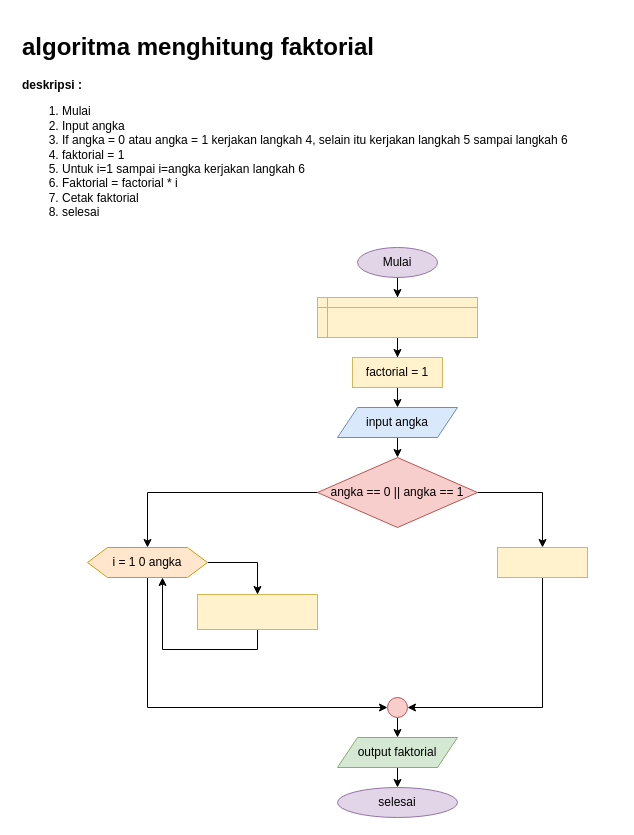
Image size: 634x835. Some labels were removed from this diagram. Each missing label, with the centre of its shape:
"factorial == 1" belongs at point (542, 562).
"faktorial = faktorial * i" belongs at point (257, 612).
"integer angka, factorial, i" belongs at point (397, 317).
